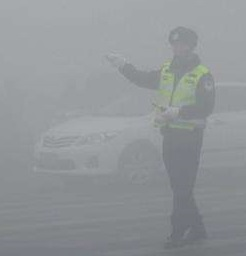person: (105, 26, 220, 256)
